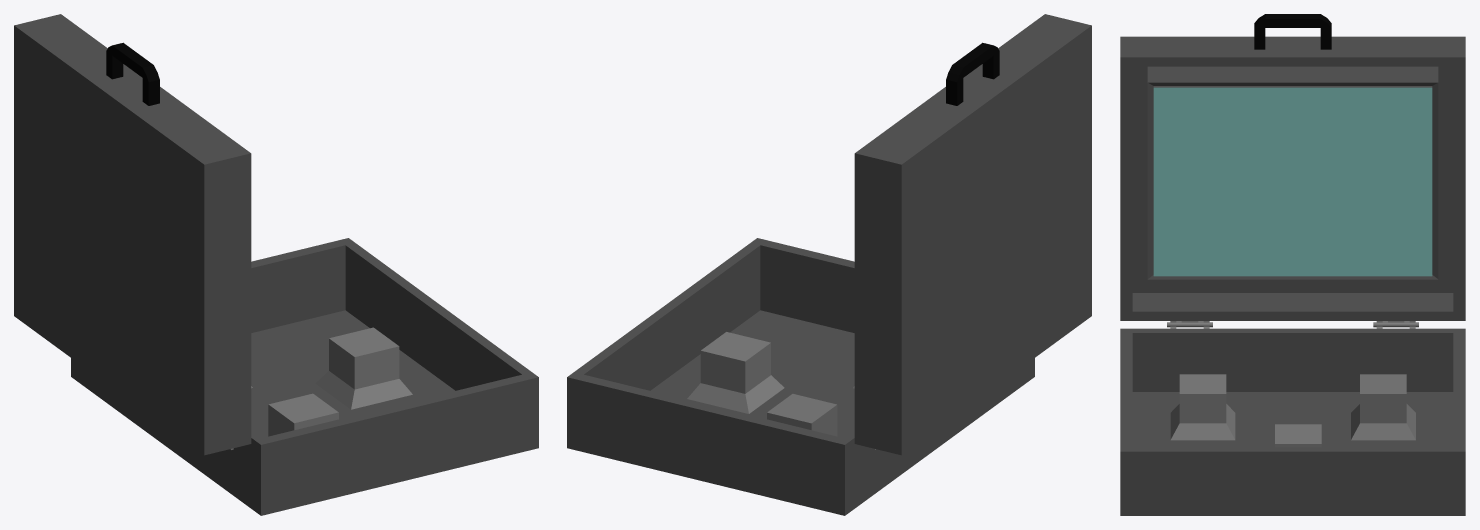
Rendered from Computer.fbx.
The picture shows the model from 3 angles, left to right: view 1: azimuth 30°, elevation 25°; view 2: azimuth 150°, elevation 25°; view 3: azimuth 270°, elevation 25°; orthographic projection. The views are drawn at different scales.
Parts seen in each view (by area): view 1: MaletaTela, MaletaBotao, BotaoMecMeio, BotaoMecE; view 2: MaletaTela, MaletaBotao, BotaoMecMeio, BotaoMecD.001; view 3: MaletaTela, MaletaBotao, BotaoMecE, BotaoMecD.001, BotaoMecMeio, Dobradica.
Boxes of the visible parts, <box> form: MaletaTela: <box>14,14,251,455</box>; MaletaBotao: <box>71,238,538,515</box>; BotaoMecMeio: <box>315,327,412,409</box>; BotaoMecE: <box>268,393,338,436</box>; MaletaTela: <box>854,14,1091,455</box>; MaletaBotao: <box>567,238,1034,515</box>; BotaoMecMeio: <box>687,332,784,413</box>; BotaoMecD.001: <box>767,394,837,436</box>; MaletaTela: <box>1120,14,1465,320</box>; MaletaBotao: <box>1120,328,1465,515</box>; BotaoMecE: <box>1170,374,1235,440</box>; BotaoMecD.001: <box>1351,374,1415,440</box>; BotaoMecMeio: <box>1275,424,1321,447</box>; Dobradica: <box>1167,321,1418,328</box>.
Bounding box in the file's own units: 99.39 × 113 × 97.9.
